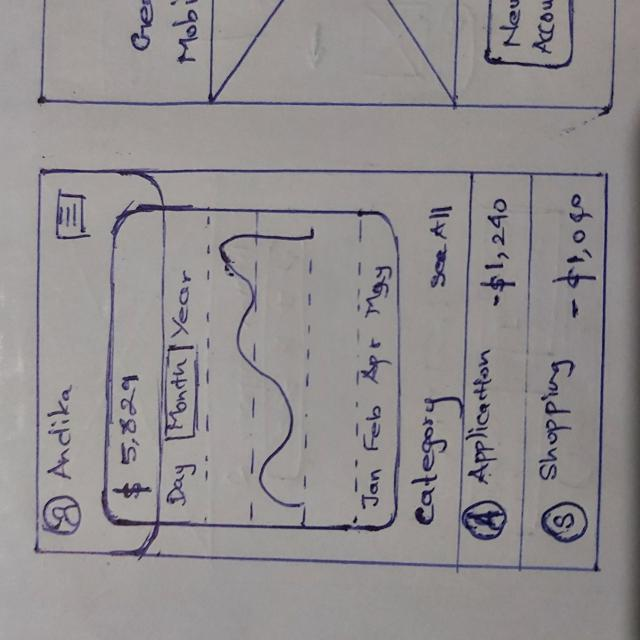AppBar: (34, 165, 104, 557)
CardView: (102, 204, 404, 531)
DrawerToggleButton: (53, 190, 89, 245)
Icon: (460, 496, 511, 546), (537, 502, 592, 547), (42, 495, 86, 539)
Layout: (526, 167, 604, 572), (461, 170, 525, 573)
MainLayout: (27, 161, 610, 581)
Tab: (161, 205, 204, 528)
TabItem: (163, 341, 201, 445), (163, 248, 201, 343), (162, 447, 201, 521)
TextView: (411, 394, 448, 530), (116, 369, 154, 501), (532, 358, 572, 483), (557, 192, 595, 321), (486, 195, 519, 301), (471, 346, 496, 484), (50, 387, 78, 485), (425, 206, 456, 289), (357, 403, 390, 460), (363, 266, 394, 320), (357, 332, 387, 384), (359, 464, 389, 513)
